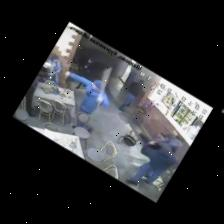person: (126, 138, 180, 185), (64, 71, 108, 114), (118, 80, 143, 111), (47, 55, 61, 85)
